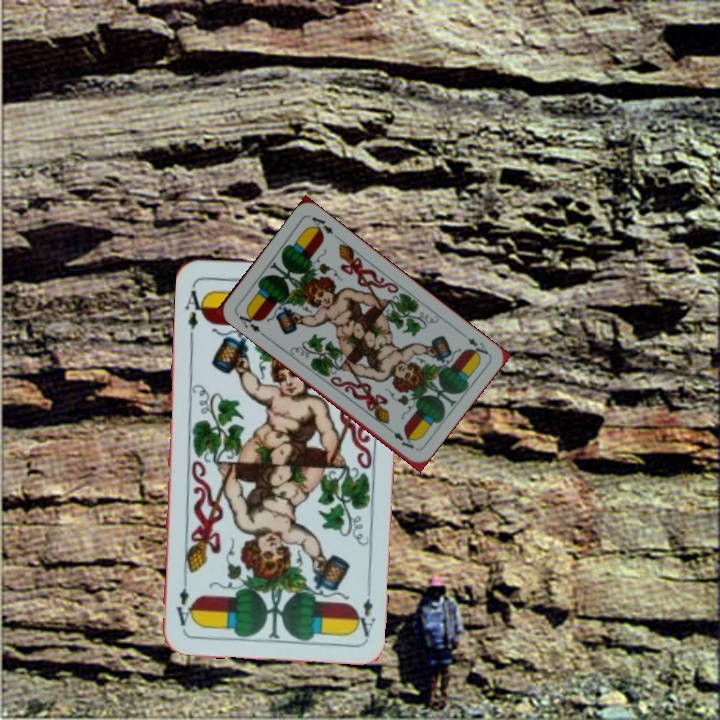EA: (181, 281, 209, 340), (351, 580, 378, 639), (456, 328, 491, 360), (232, 307, 263, 335)
